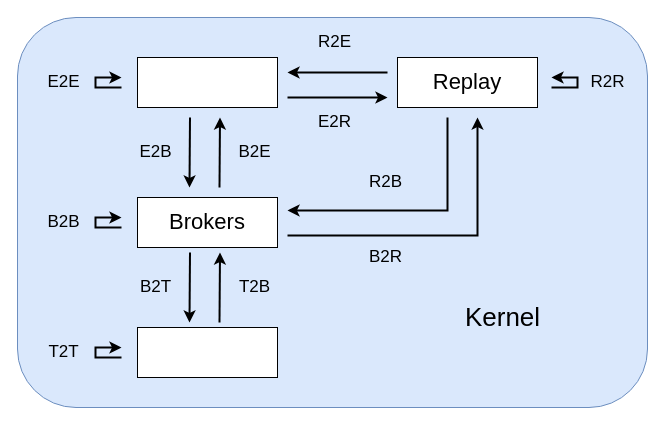
This 665x425 diagram has some shape labels left out. The shapes that lost their labels are listed below. From the top down, each one's centre as x and y in pixels, then its label:
(x=207, y=82): Exchanges
(x=207, y=352): Traders
